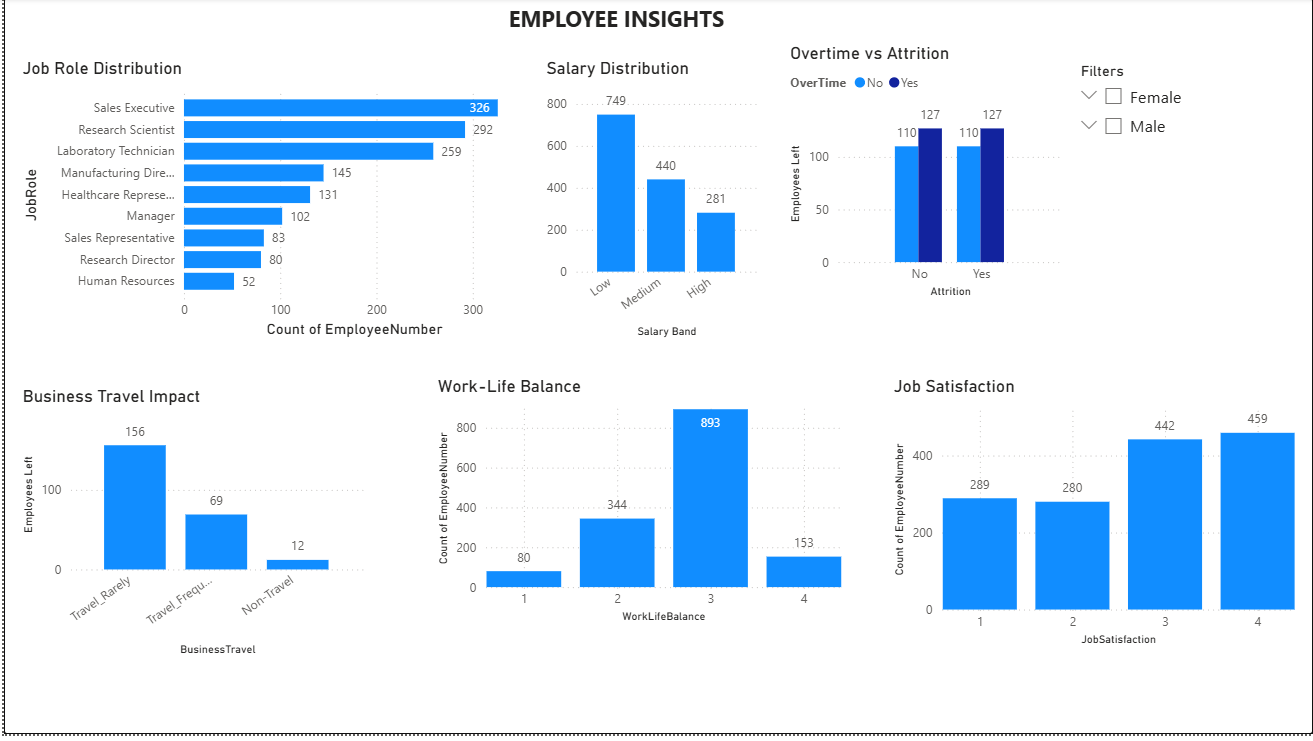

What the dashboard file says about the page in this screenshot:
{"tool":"powerbi","page":{"name":"EMPLOYEE INSIGHTS ","canvas":[1280,720],"ordinal":1},"visuals":[{"type":"textbox","box":[462.4,0,279.9,57.6],"z":0},{"type":"clusteredBarChart","title":"Job Role Distribution","fields":{"Category":["WA_Fn-UseC_-HR-Employee-Attriti.JobRole"],"Y":["CountNonNull(WA_Fn-UseC_-HR-Employee-Attriti.EmployeeNumber)"]},"box":[13.7,59,511.8,278.6],"z":1000},{"type":"clusteredColumnChart","title":"Business Travel Impact","fields":{"Category":["WA_Fn-UseC_-HR-Employee-Attriti.BusinessTravel"],"Y":["WA_Fn-UseC_-HR-Employee-Attriti.Employees Left"]},"box":[13.7,378.7,344.4,269],"z":2000},{"type":"clusteredColumnChart","title":"Job Satisfaction","fields":{"Y":["CountNonNull(WA_Fn-UseC_-HR-Employee-Attriti.EmployeeNumber)"],"Category":["WA_Fn-UseC_-HR-Employee-Attriti.JobSatisfaction"]},"box":[865.9,369.1,402.1,269],"z":3000},{"type":"clusteredColumnChart","title":"Work-Life Balance","fields":{"Category":["WA_Fn-UseC_-HR-Employee-Attriti.WorkLifeBalance"],"Y":["CountNonNull(WA_Fn-UseC_-HR-Employee-Attriti.EmployeeNumber)"]},"box":[419.9,369.1,404.8,247],"z":4000},{"type":"slicer","fields":{"Values":["WA_Fn-UseC_-HR-Employee-Attriti.Gender","WA_Fn-UseC_-HR-Employee-Attriti.Department","WA_Fn-UseC_-HR-Employee-Attriti.Attrition"]},"box":[1040.1,57.6,227.8,124.9],"z":5000},{"type":"clusteredColumnChart","title":"Salary Distribution","fields":{"Category":["WA_Fn-UseC_-HR-Employee-Attriti.Salary Band"],"Y":["CountNonNull(WA_Fn-UseC_-HR-Employee-Attriti.EmployeeNumber)"]},"box":[526,59,216,279],"z":6000},{"type":"clusteredColumnChart","title":"Overtime vs Attrition","fields":{"Category":["WA_Fn-UseC_-HR-Employee-Attriti.Attrition"],"Y":["WA_Fn-UseC_-HR-Employee-Attriti.Employees Left"],"Series":["WA_Fn-UseC_-HR-Employee-Attriti.OverTime"]},"box":[764.3,44,276.4,254.3],"z":7000}]}

Visuals, with their boxes in screenshot pixels (x1, y1, x2, y2), scaled from the page's 1280x720 canvas onto the 1313x741 screenshot:
textbox: 474 0 761 59
"Job Role Distribution" clusteredBarChart: 14 61 539 347
"Business Travel Impact" clusteredColumnChart: 14 390 367 667
"Job Satisfaction" clusteredColumnChart: 888 380 1301 657
"Work-Life Balance" clusteredColumnChart: 431 380 846 634
slicer - WA_Fn-UseC_-HR-Employee-Attriti.Gender x WA_Fn-UseC_-HR-Employee-Attriti.Department: 1067 59 1301 188
"Salary Distribution" clusteredColumnChart: 540 61 761 348
"Overtime vs Attrition" clusteredColumnChart: 784 45 1068 307
